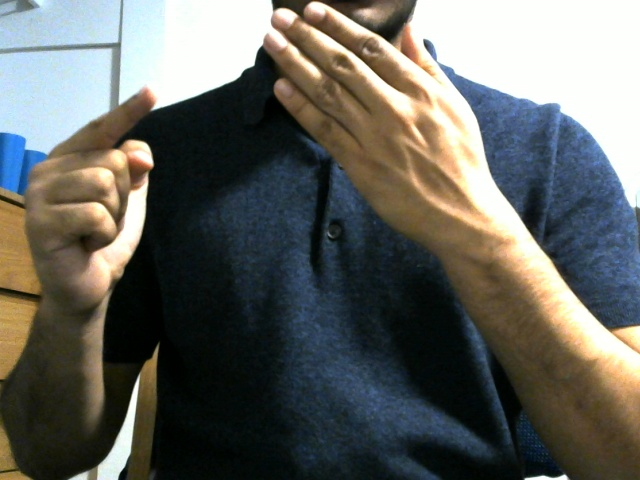Project: (12, 1, 498, 300)
